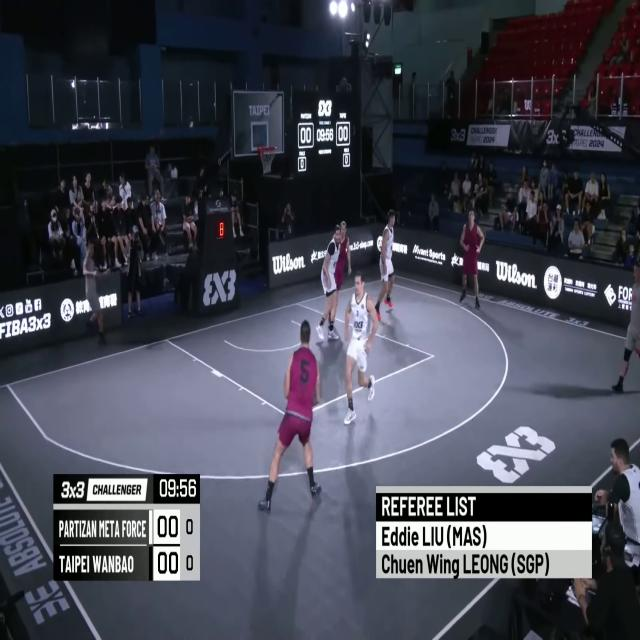hoop: (259, 143, 278, 175)
player: (256, 318, 323, 515), (344, 272, 378, 422), (316, 224, 343, 344), (326, 218, 353, 336), (458, 208, 486, 310), (374, 211, 394, 318)
